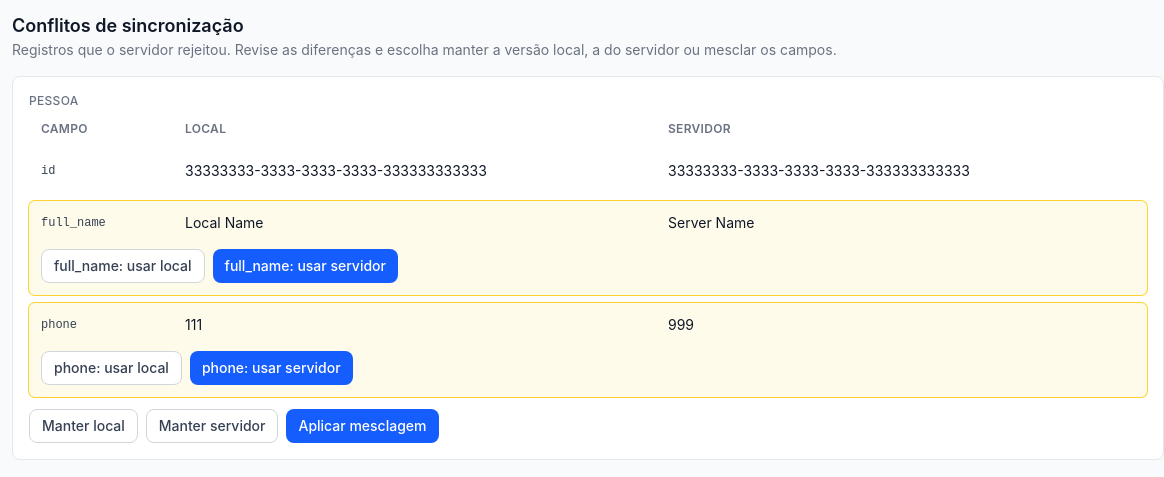
Test: integration: conflict resolution UI + syncEngine + Dexie › applies the server version and clears the conflict on "Manter servidor"
Click the button "Manter servidor" at (212, 426), box [146,409,278,443]
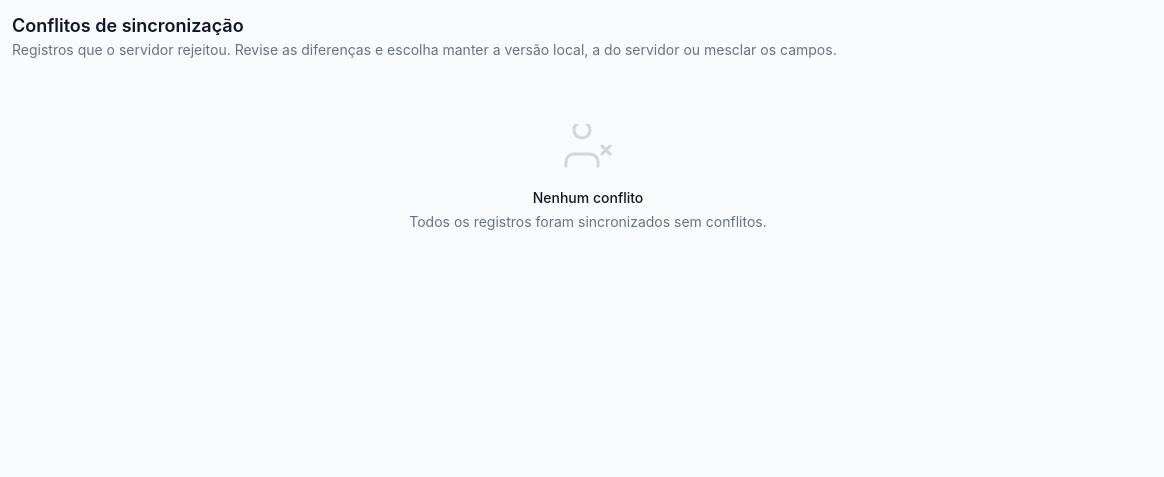
Expected: the heading "Nenhum conflito" is shown, [533,188,643,208]
